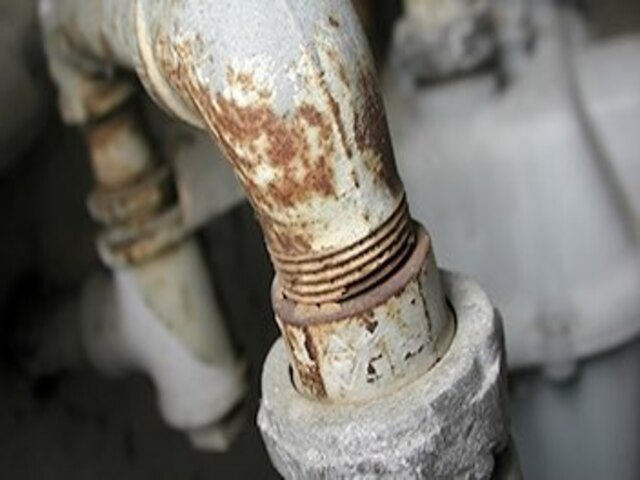Low: (164, 41, 464, 405)
